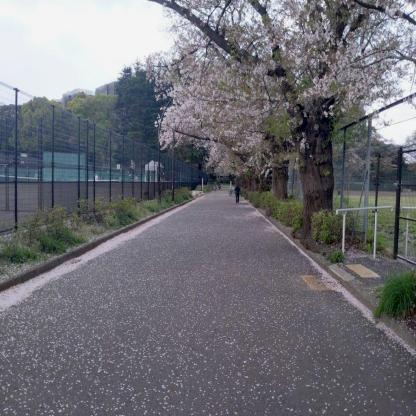Someiyoshino: (136, 0, 413, 183)
